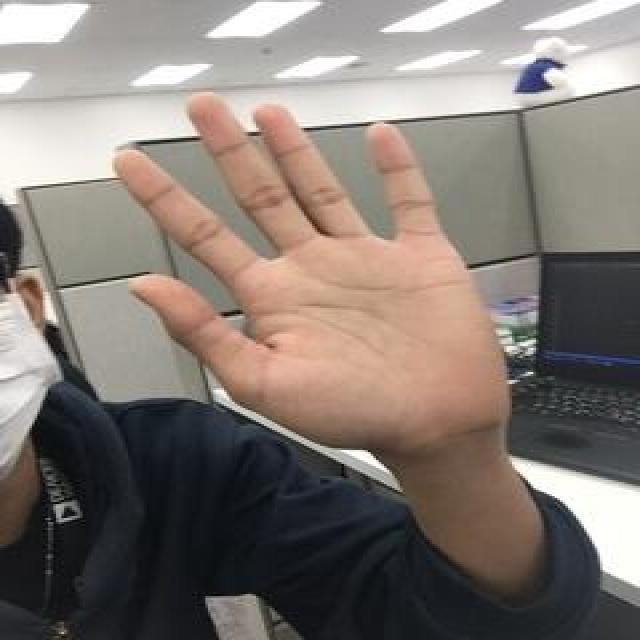hand: (117, 90, 512, 448)
